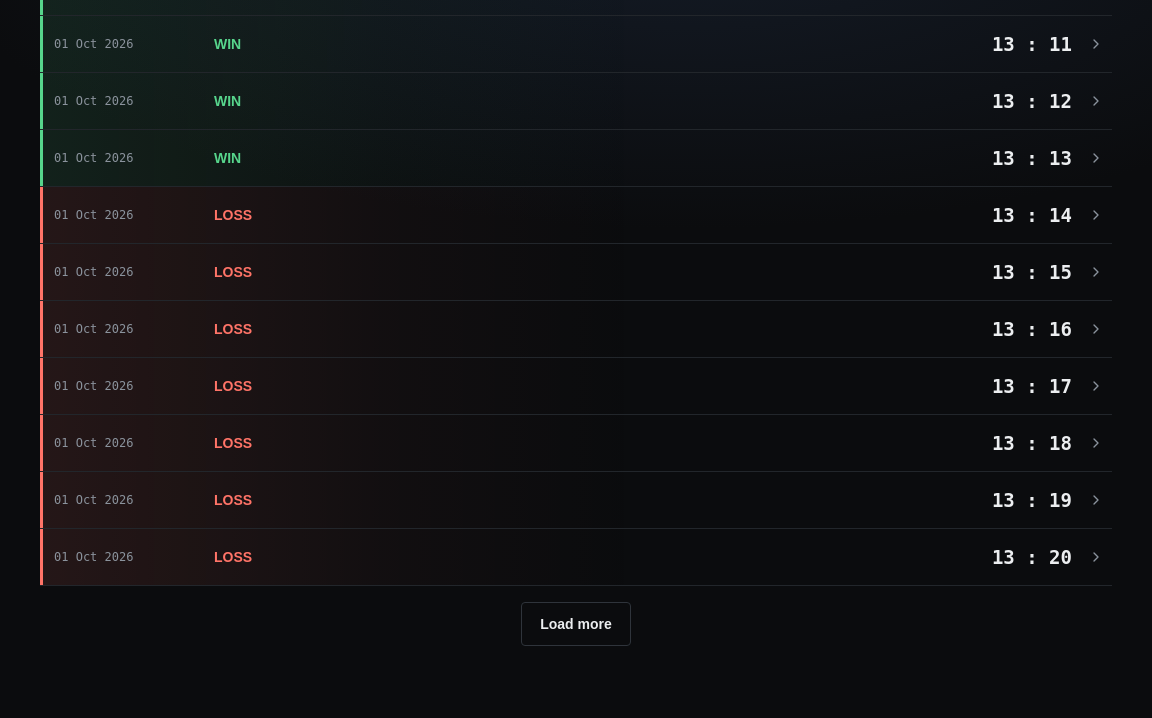
PlayerPage › load more › appends the next page and hides the button once a page is short
(page scrolled)
Expected: the link "01 Oct 2026 LOSS 13 : 20" is shown, [40,529,1112,585]
Click the button "Load more": (576, 624) [521,602,631,646]
(page scrolled)
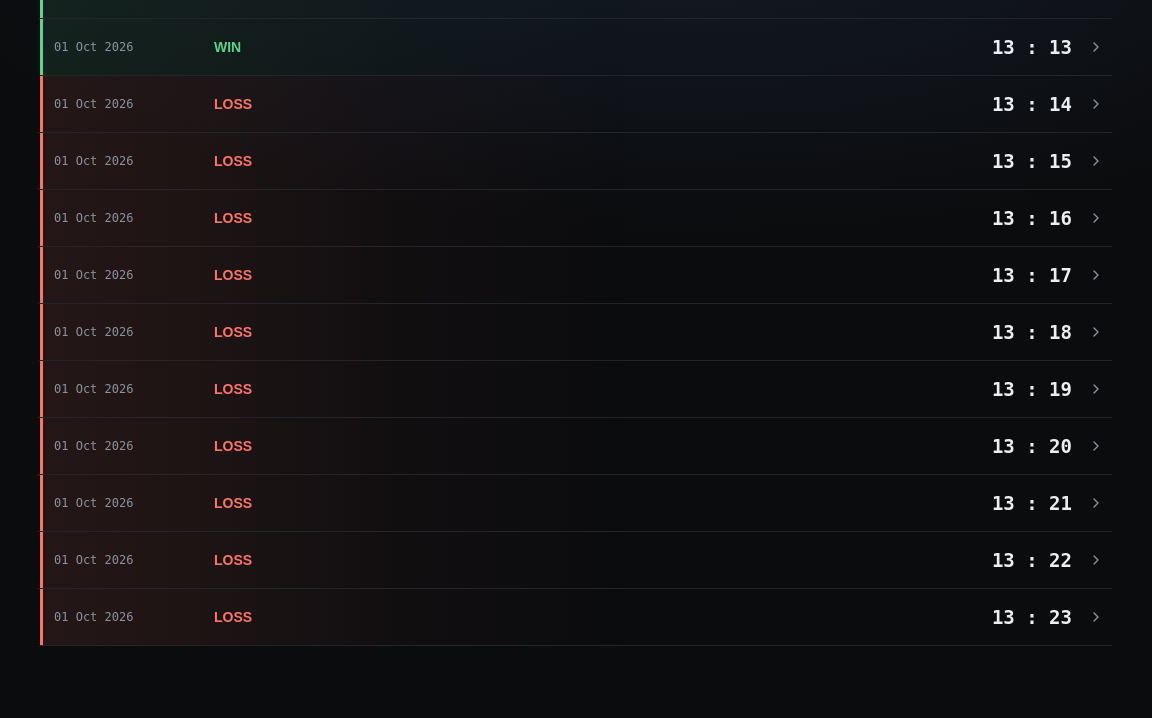
Now the link "01 Oct 2026 LOSS 13 : 23" is shown, box [40,589,1112,645]
Now the button "Load more" is gone
